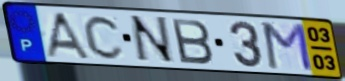3: (228, 19, 265, 70)
A: (43, 10, 93, 61)
B: (169, 17, 216, 66)
C: (82, 13, 127, 61)
M: (261, 21, 315, 73)
N: (128, 14, 178, 65)
